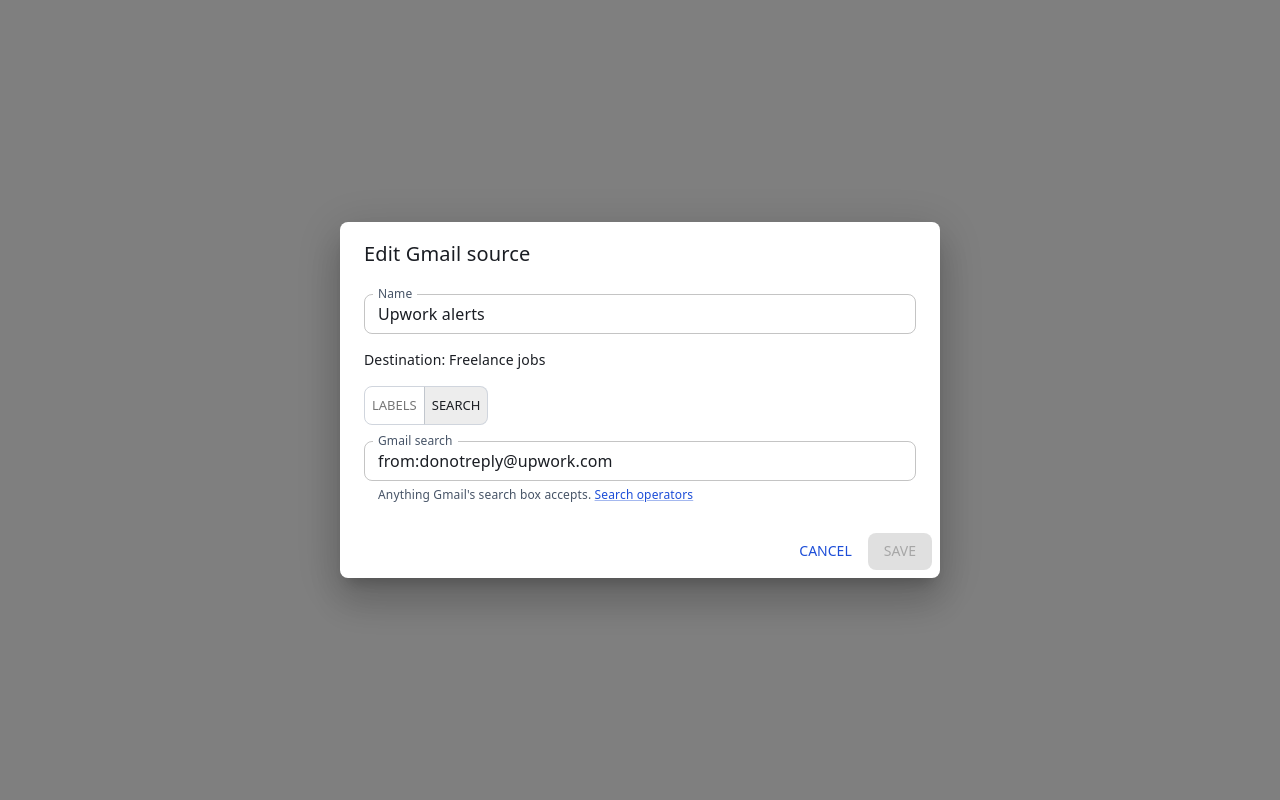
it: EditGmailSourceDialog › changing the match › forgets the preview when the match changes again
Clear the field labelled "Gmail search" at (640, 461), box [364, 441, 916, 481]
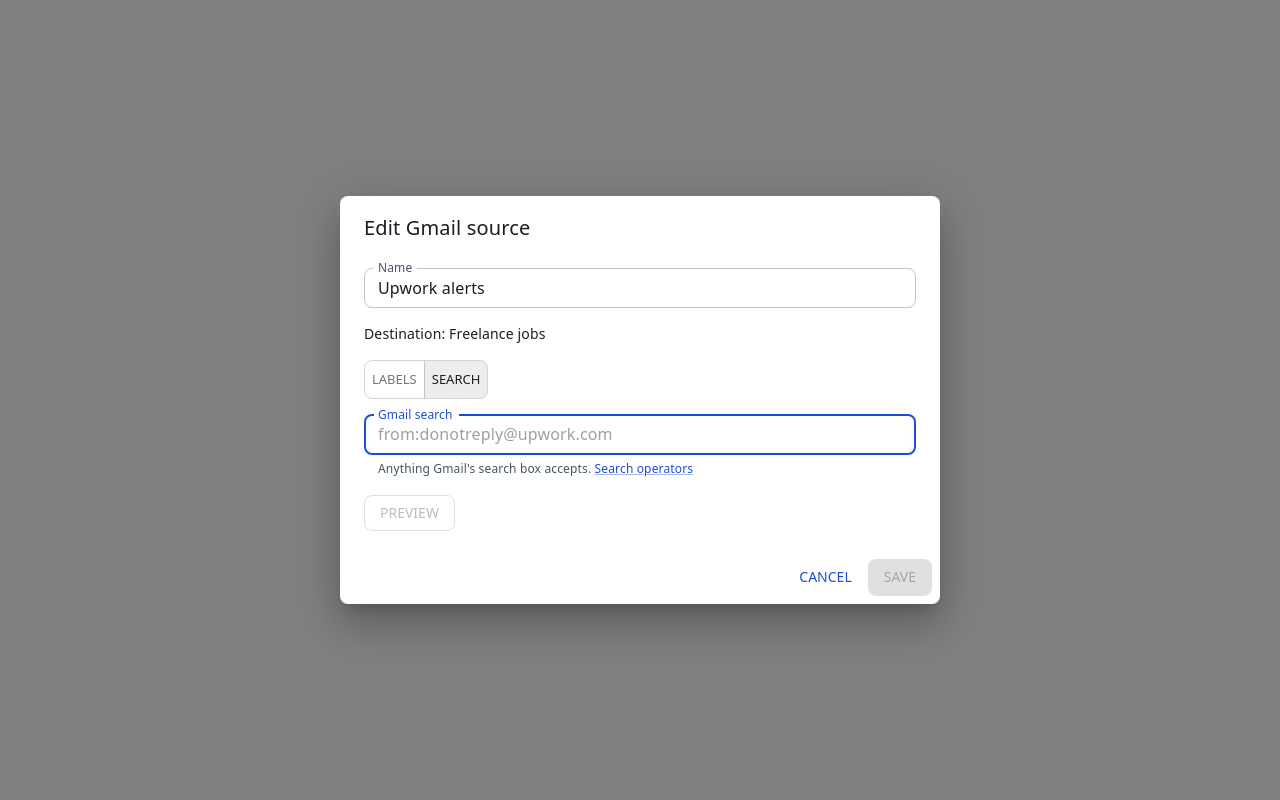
Type "from:freelancer.com" into the field labelled "Gmail search" at (640, 435), box [364, 415, 916, 455]
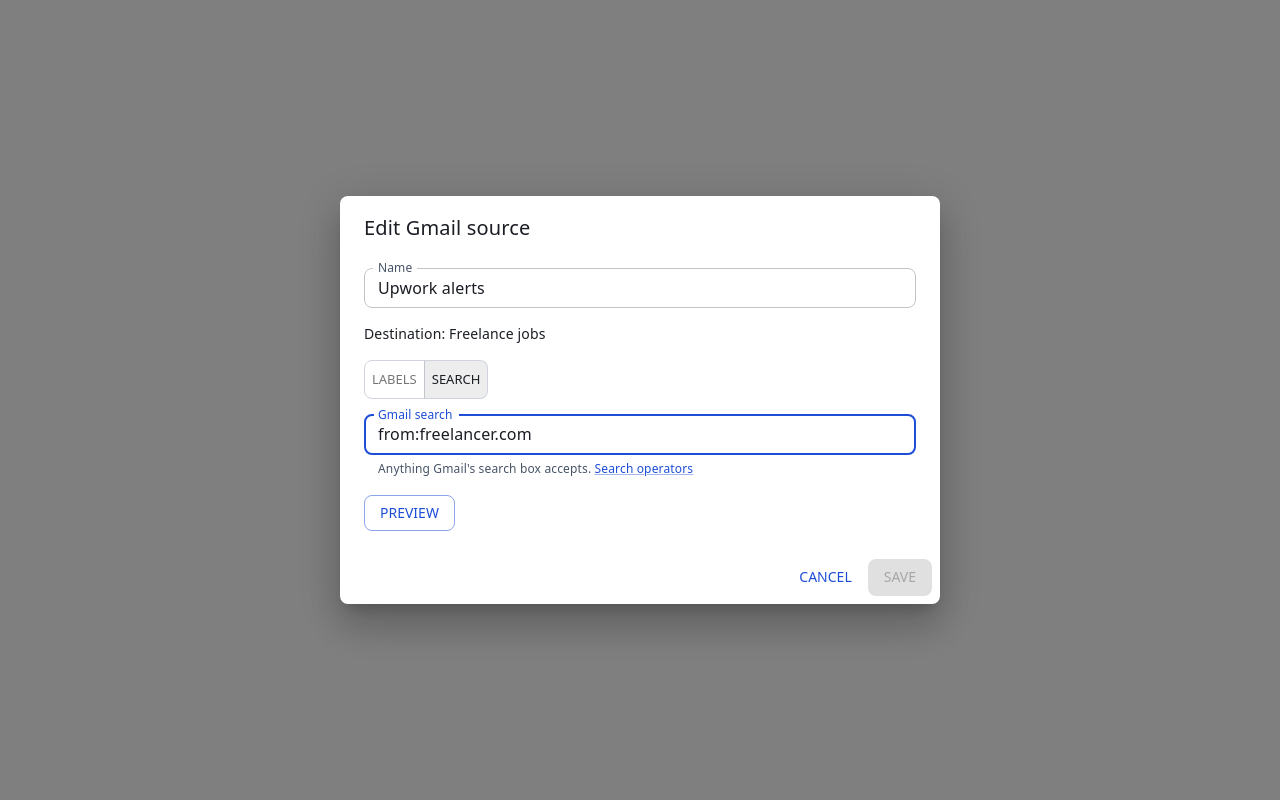
Click the button "Preview" at (409, 513), box [364, 495, 455, 531]
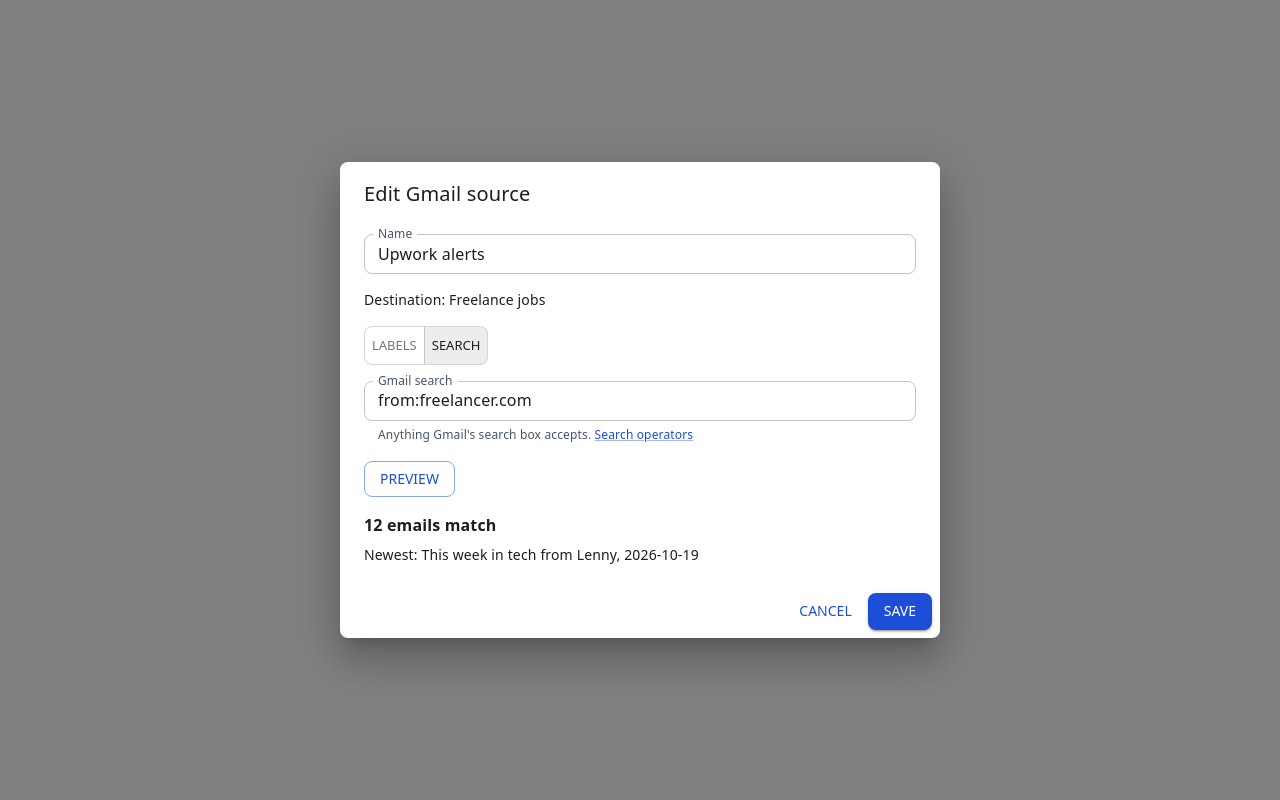
Check: the text "12 emails match" is shown, box [364, 514, 496, 536]
Type "x" into the field labelled "Gmail search" at (640, 401), box [364, 381, 916, 421]
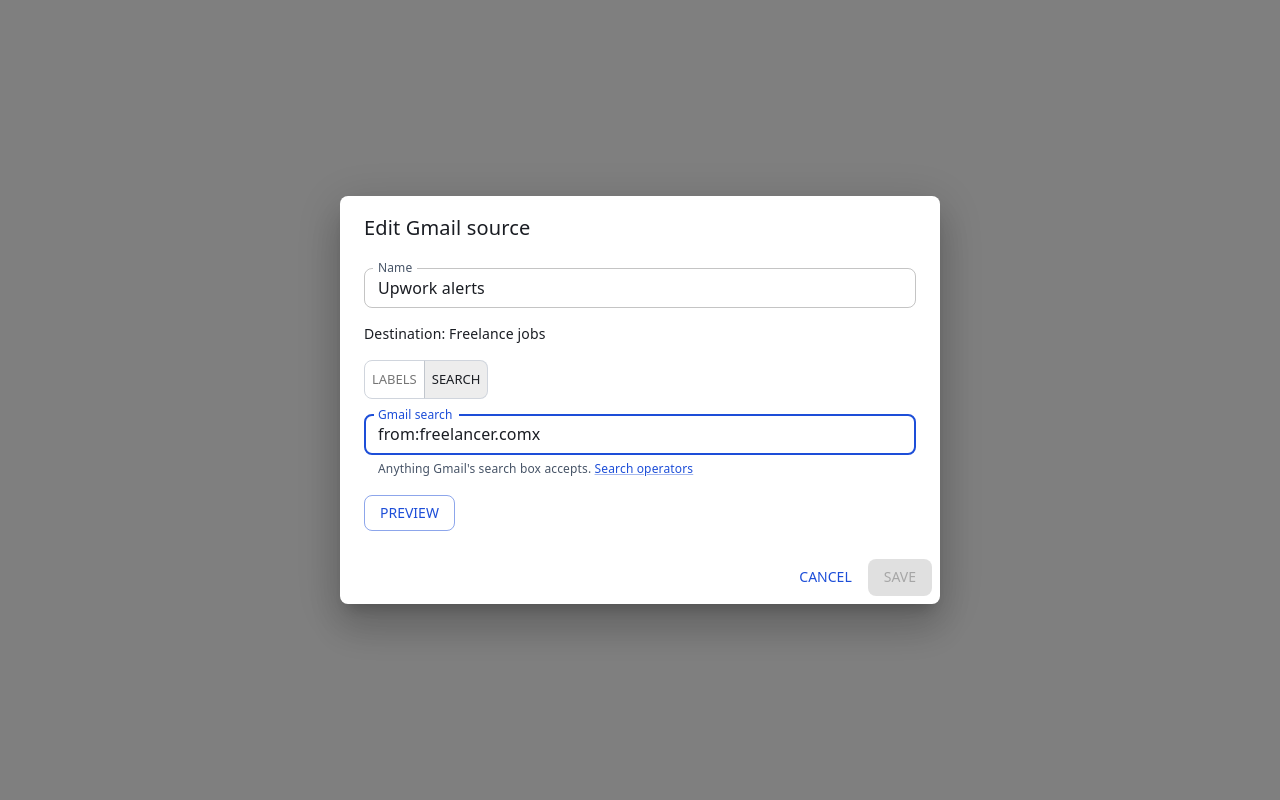
Check: the text "12 emails match" is gone
Check: the button "Save" is disabled, box [868, 559, 932, 596]
